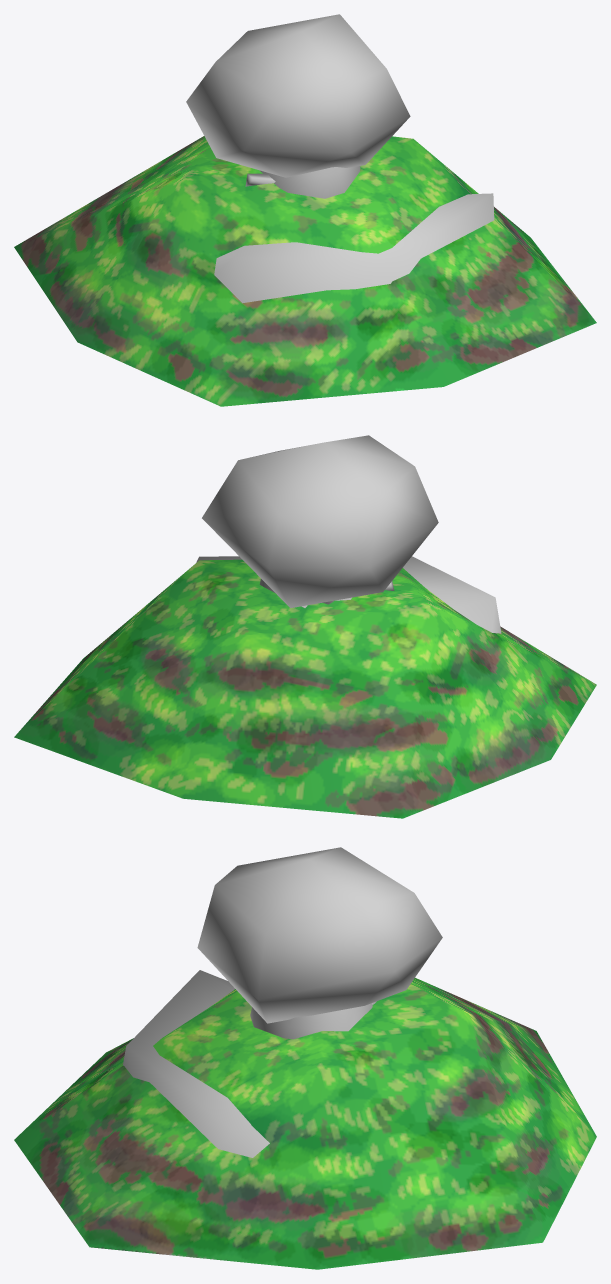
File: LowPolyEnv.FBX
3 renders of one model, top to bottom at view 1: azimuth 30°, elevation 25°; view 2: azimuth 150°, elevation 25°; view 3: azimuth 270°, elevation 25°, orthographic. The views are drawn at different scales.
Parts seen in each view (by area): view 1: Hillock4, Tree5, Hillock7, Tree8; view 2: Hillock4, Tree5, Hillock7; view 3: Hillock4, Tree5, Hillock7, Tree8.
Boxes of the visible parts, bbox=[...] form: Hillock4: bbox=[14, 136, 596, 406]; Tree5: bbox=[186, 14, 410, 177]; Hillock7: bbox=[214, 193, 494, 303]; Tree8: bbox=[260, 166, 360, 198]; Hillock4: bbox=[14, 559, 596, 818]; Tree5: bbox=[202, 435, 438, 608]; Hillock7: bbox=[196, 556, 501, 633]; Hillock4: bbox=[14, 977, 596, 1269]; Tree5: bbox=[197, 847, 442, 1023]; Hillock7: bbox=[123, 970, 269, 1157]; Tree8: bbox=[250, 1003, 372, 1039].
Bounding box in the file's own units: 80.58 × 45.97 × 82.36.
